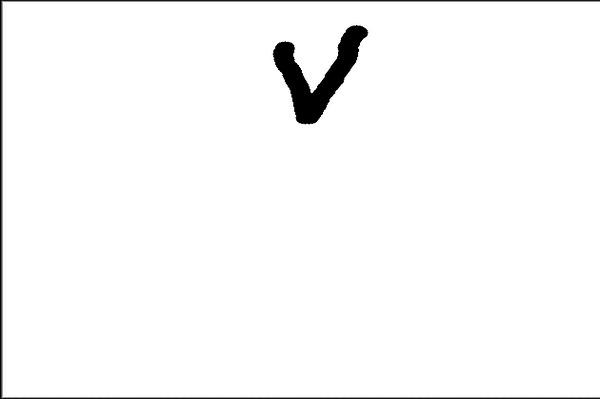V: (262, 24, 378, 130)
